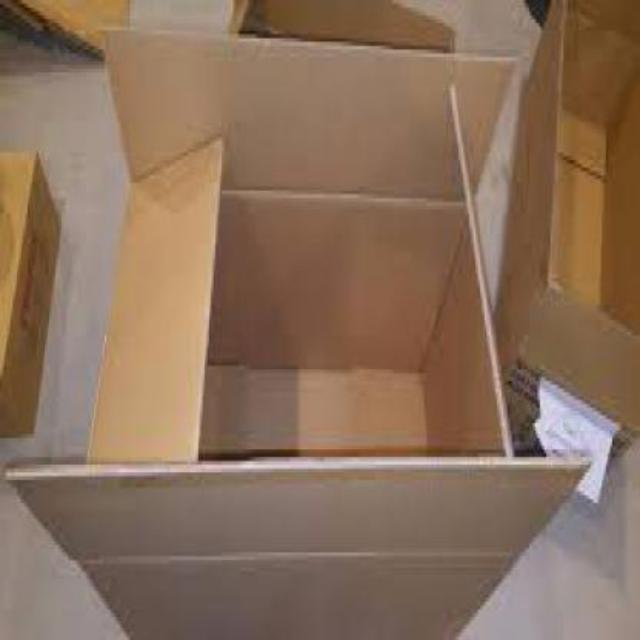cardboard_box: (44, 20, 574, 638)
